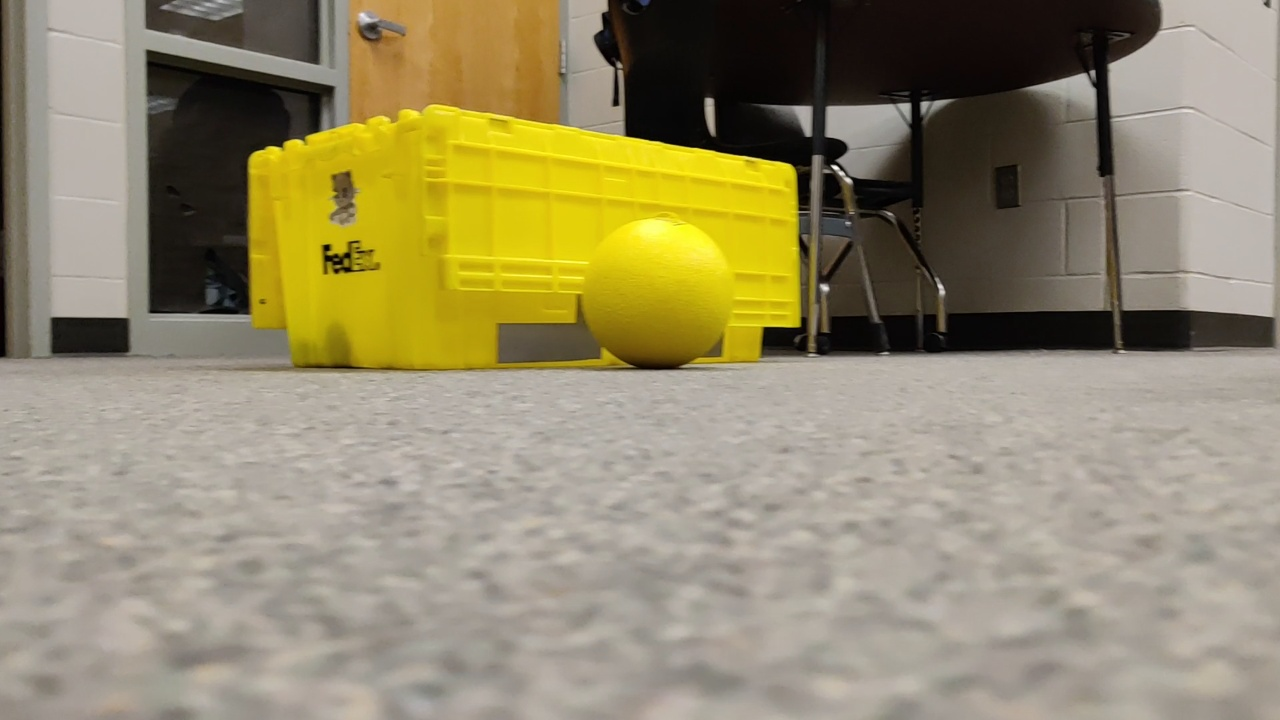Ball: (579, 215, 732, 365)
